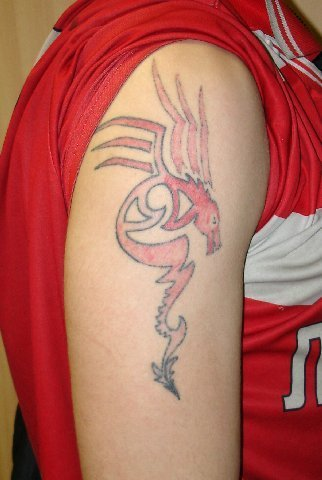tatu6_drakon: (82, 50, 247, 408)
